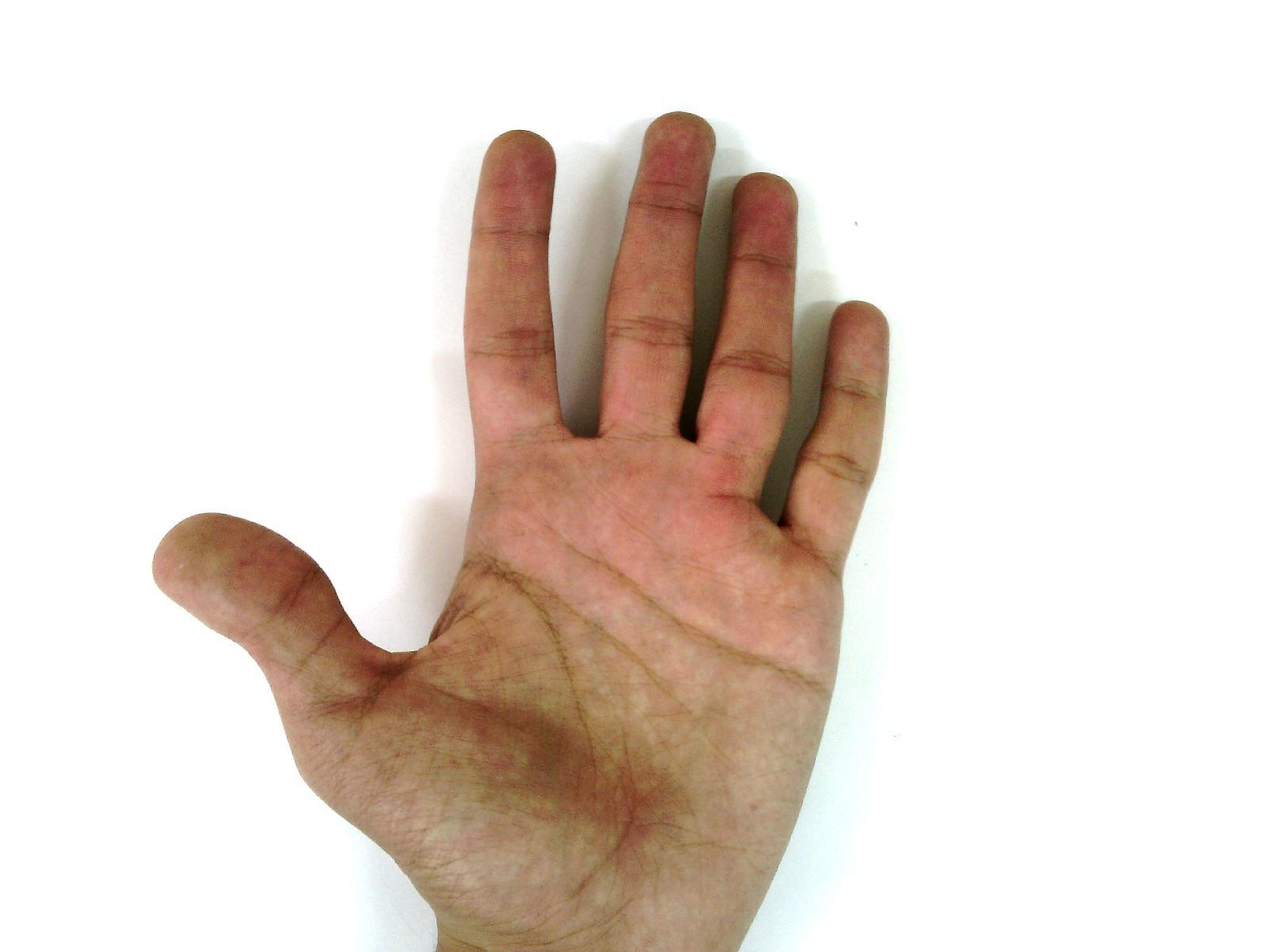open_palm: (151, 110, 895, 951)
